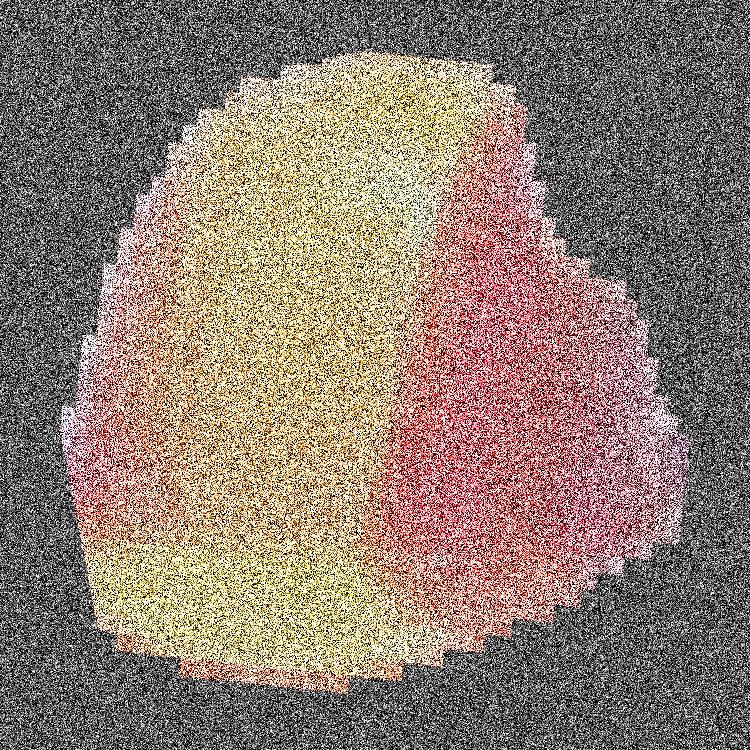Capacete: (171, 0, 682, 749)
